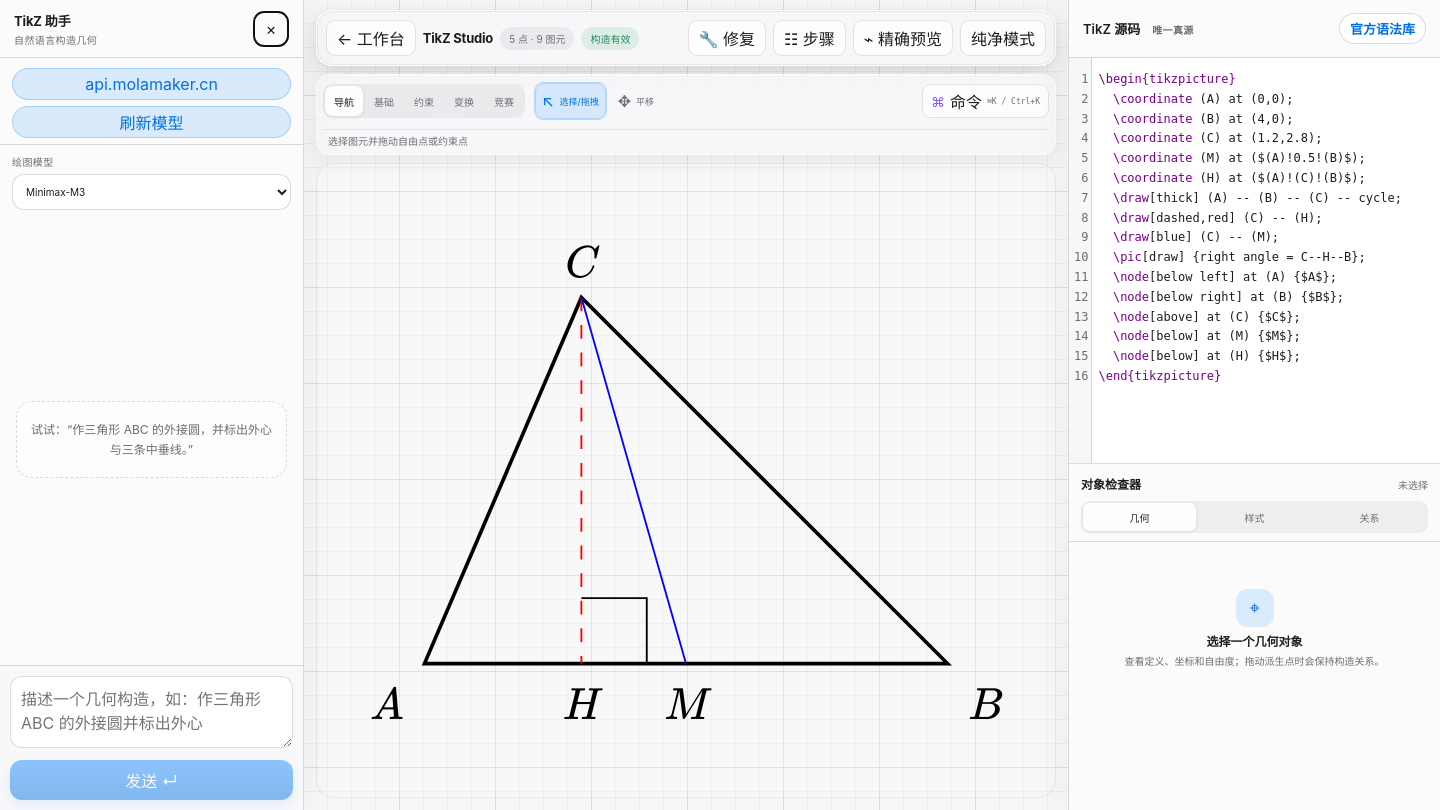
TikzStudio › projects terminal-only failures into readable chat instead of an empty success
The image size is (1440, 810).
Type "解释当前图形" into the text box named "几何构造描述" at (152, 712), box [10,676,293,748]
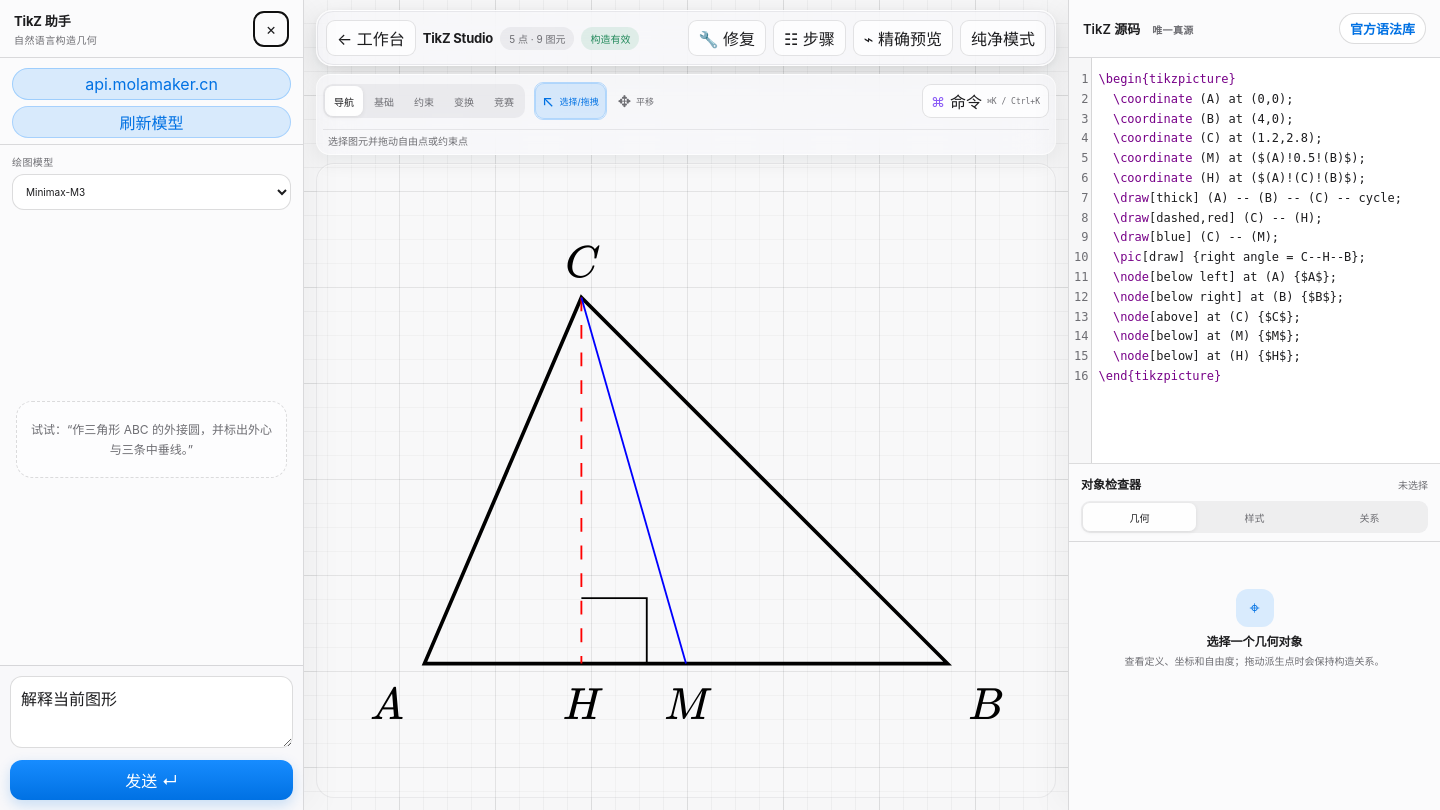
Click the button "发送 ↵" at (152, 780), box [10,760,293,800]
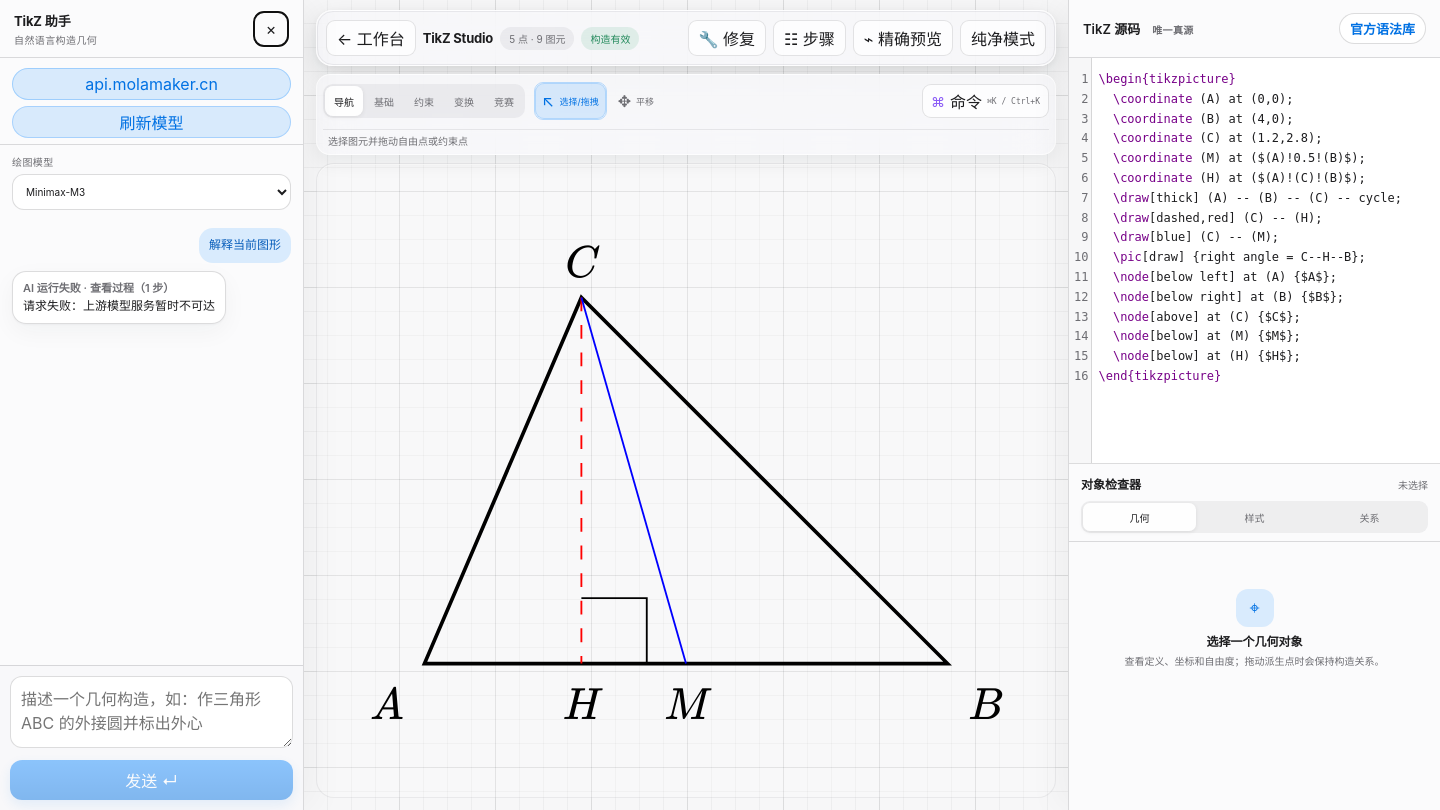
Check: the text "请求失败：上游模型服务暂时不可达" is shown, box [23,297,215,315]
